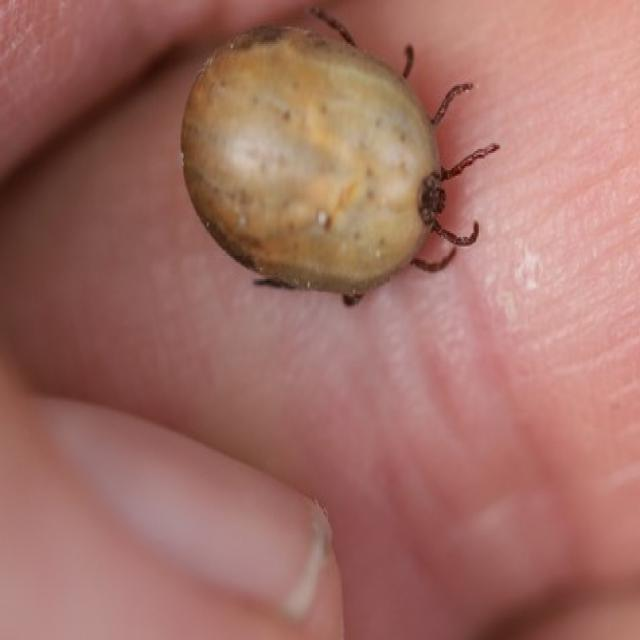Dermacentor Reticulatus-F-Fed: (182, 8, 502, 308)
